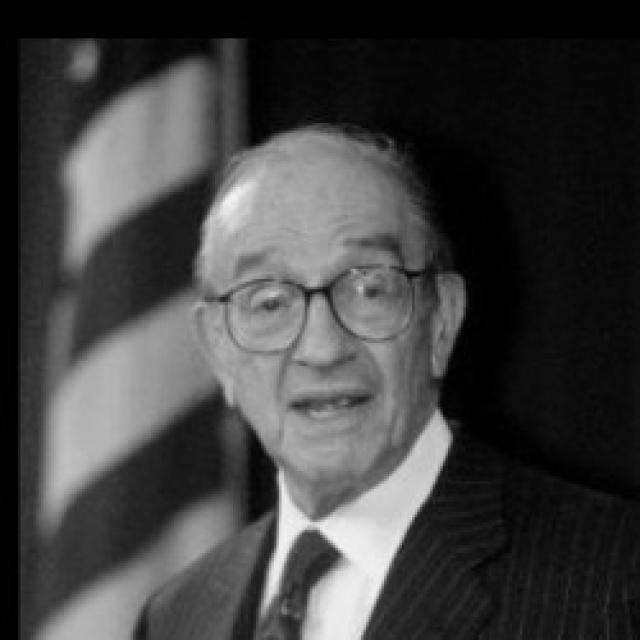real: (209, 158, 428, 480), (230, 265, 401, 335)
